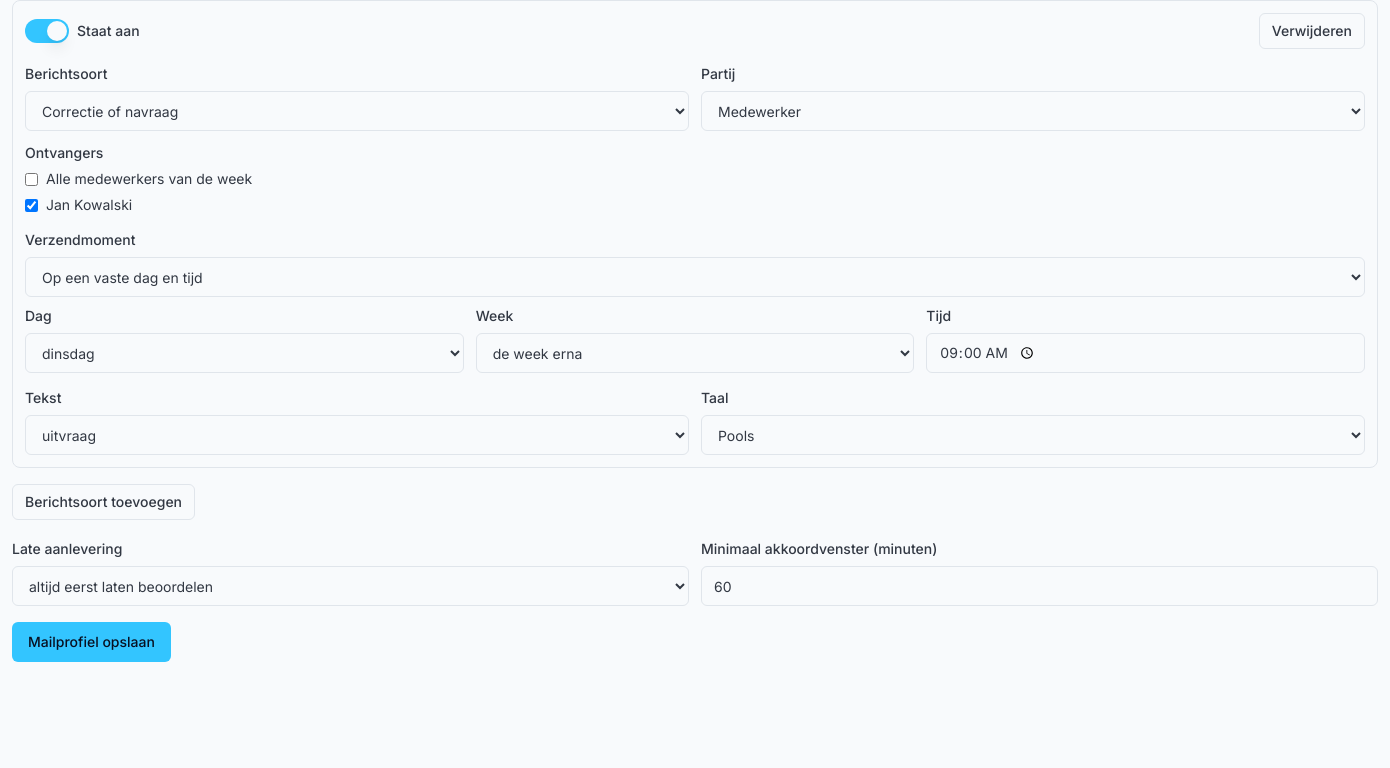
Test case: the mail profile on screen › drops a language the new party cannot use instead of leaving it dangling
Step 1. Select "Opdrachtgever" in the dropdown labelled "Partij" → (1033, 111), box left=701, top=91, right=1365, bottom=131
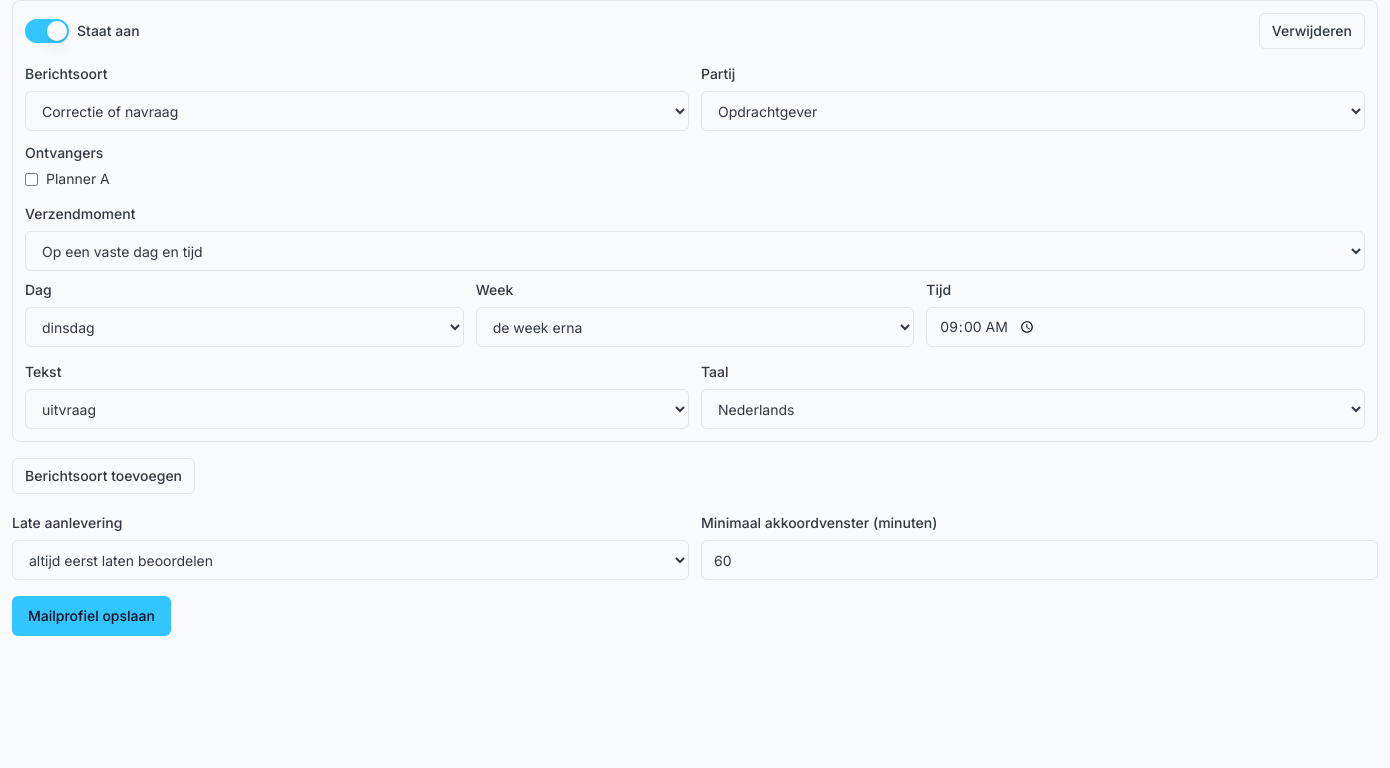
Expected: the dropdown labelled "Taal" shows "Nederlands", left=701, top=389, right=1365, bottom=429
